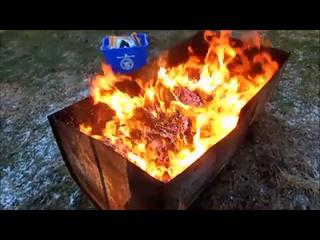fire: (95, 31, 274, 183)
